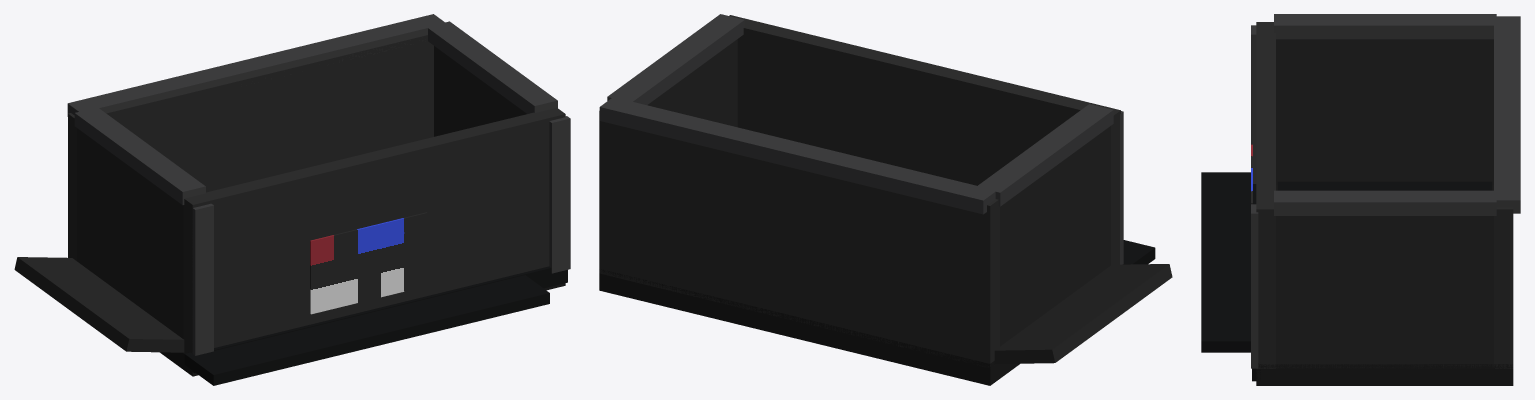
File: CMU3DTearGasPacketCloudOpenStudy.glb
3 views of the same model, side by side, from view 1: azimuth 30°, elevation 25°; view 2: azimuth 150°, elevation 25°; view 3: azimuth 270°, elevation 25° (orthographic). The views are drawn at different scales.
Visible parts, largest first — view 1: front cardboard wall, back cardboard wall, left folded cardboard wall, front opened tuck flap, original red blue and pale front legend, rear opened upper rim, left opened folded flap, right folded cardboard wall, left upper rim, right upper rim, right vertical fold edge, left vertical fold edge (+1 smaller); view 2: back cardboard wall, front cardboard wall, left folded cardboard wall, rear opened upper rim, carton bottom, left opened folded flap, left upper rim, right upper rim, right folded cardboard wall, front opened tuck flap, left vertical fold edge; view 3: right folded cardboard wall, left folded cardboard wall, front opened tuck flap, front cardboard wall, right upper rim, left upper rim, carton bottom, rear opened upper rim, back cardboard wall, visible empty carton lining, right vertical fold edge, left vertical fold edge.
Boxes of the visible parts, left/top/right/bottom form: front cardboard wall: left=183, top=108, right=565, bottom=353; back cardboard wall: left=68, top=35, right=433, bottom=261; left folded cardboard wall: left=77, top=128, right=183, bottom=338; front opened tuck flap: left=184, top=275, right=549, bottom=385; original red blue and pale front legend: left=310, top=212, right=427, bottom=314; rear opened upper rim: left=67, top=14, right=444, bottom=116; left opened folded flap: left=14, top=257, right=184, bottom=352; right folded cardboard wall: left=434, top=46, right=526, bottom=136; left upper rim: left=74, top=107, right=205, bottom=204; right upper rim: left=427, top=21, right=557, bottom=113; right vertical fold edge: left=549, top=116, right=570, bottom=273; left vertical fold edge: left=192, top=203, right=213, bottom=355; back cardboard wall: left=599, top=111, right=999, bottom=367; front cardboard wall: left=729, top=15, right=1120, bottom=265; left folded cardboard wall: left=1000, top=126, right=1110, bottom=346; rear opened upper rim: left=599, top=97, right=996, bottom=214; carton bottom: left=599, top=269, right=1019, bottom=385; left opened folded flap: left=994, top=264, right=1172, bottom=363; left upper rim: left=978, top=104, right=1113, bottom=206; right upper rim: left=607, top=14, right=744, bottom=104; right folded cardboard wall: left=647, top=39, right=737, bottom=127; front opened tuck flap: left=1123, top=240, right=1155, bottom=264; left vertical fold edge: left=1120, top=111, right=1123, bottom=264; right folded cardboard wall: left=1276, top=216, right=1493, bottom=368; left folded cardboard wall: left=1276, top=39, right=1493, bottom=185; front opened tuck flap: left=1201, top=172, right=1250, bottom=352; front cardboard wall: left=1256, top=22, right=1275, bottom=368; right upper rim: left=1274, top=190, right=1496, bottom=215; left upper rim: left=1274, top=14, right=1496, bottom=39; carton bottom: left=1256, top=185, right=1513, bottom=385; rear opened upper rim: left=1494, top=16, right=1520, bottom=213; back cardboard wall: left=1494, top=207, right=1513, bottom=368; visible empty carton lining: left=1277, top=181, right=1492, bottom=190; right vertical fold edge: left=1251, top=204, right=1258, bottom=368; left vertical fold edge: left=1251, top=25, right=1256, bottom=183.
Bounding box in the file's own units: 0.5805 × 0.229 × 0.36.
6 materials, 1 textured.
